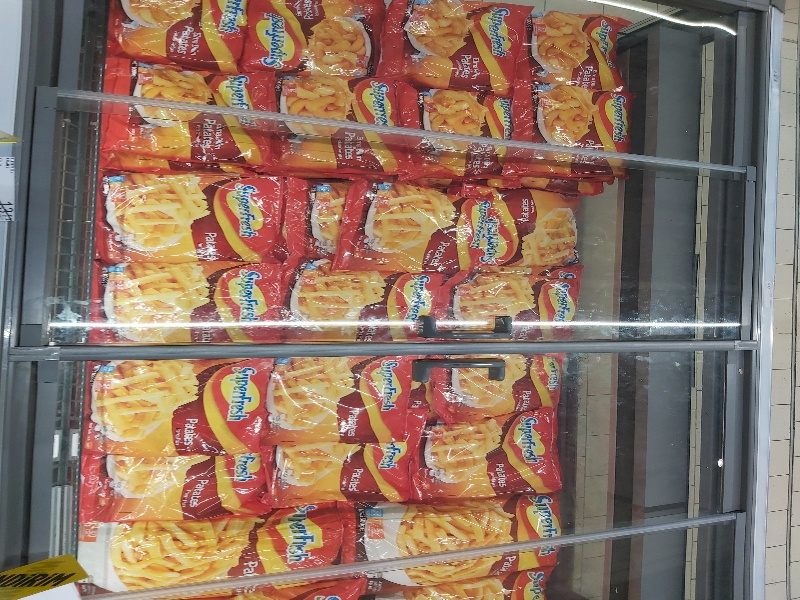urun1: (77, 351, 273, 445), (103, 169, 283, 258), (103, 254, 283, 343), (75, 454, 284, 528), (251, 348, 422, 437), (449, 179, 591, 276), (505, 83, 637, 167)
urun2: (112, 64, 280, 177), (417, 406, 556, 504), (277, 75, 416, 172)
